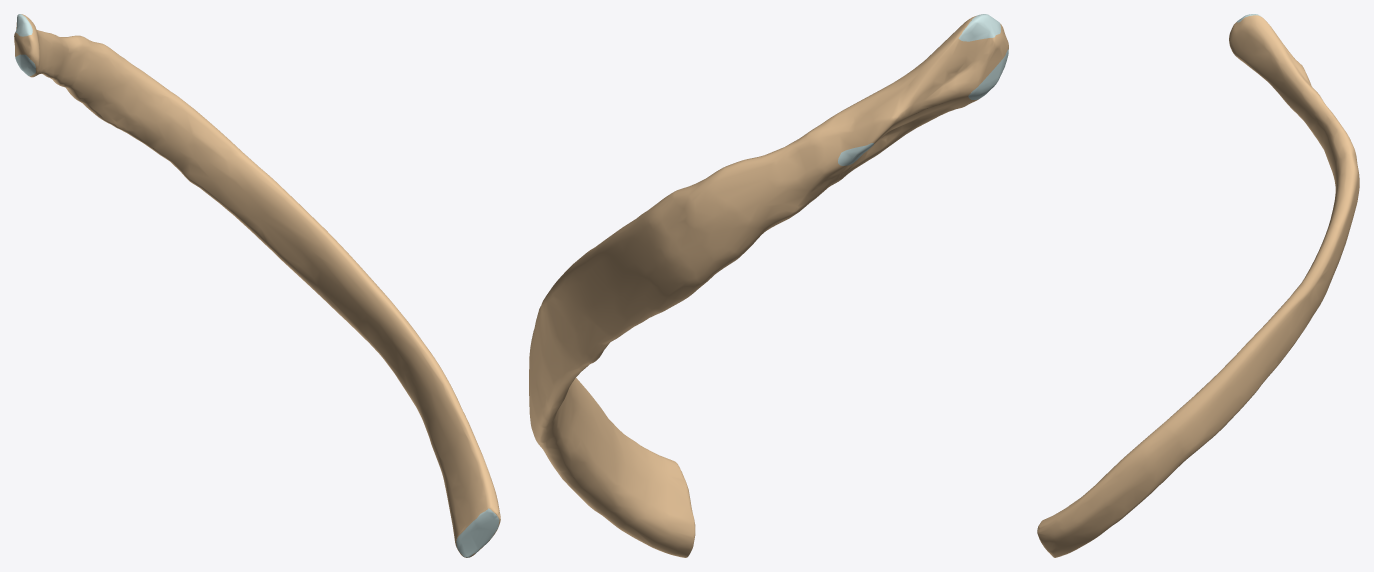
Rendered from 10th_rib.l_Generated_Mesh_From_X3D.891.glb.
The picture shows the model from 3 angles, left to right: view 1: azimuth 30°, elevation 25°; view 2: azimuth 150°, elevation 25°; view 3: azimuth 270°, elevation 25°; orthographic projection. The views are drawn at different scales.
Visible parts, largest first — view 1: 10th_rib.l_Generated_Mesh_From_X3D.891; view 2: 10th_rib.l_Generated_Mesh_From_X3D.891; view 3: 10th_rib.l_Generated_Mesh_From_X3D.891.
Part boxes in pixels (<box>): 10th_rib.l_Generated_Mesh_From_X3D.891: <box>14,14,500,557</box>; 10th_rib.l_Generated_Mesh_From_X3D.891: <box>529,14,1008,557</box>; 10th_rib.l_Generated_Mesh_From_X3D.891: <box>1037,14,1359,557</box>.
Bounding box in the file's own units: 0.1129 × 0.1568 × 0.1094.
